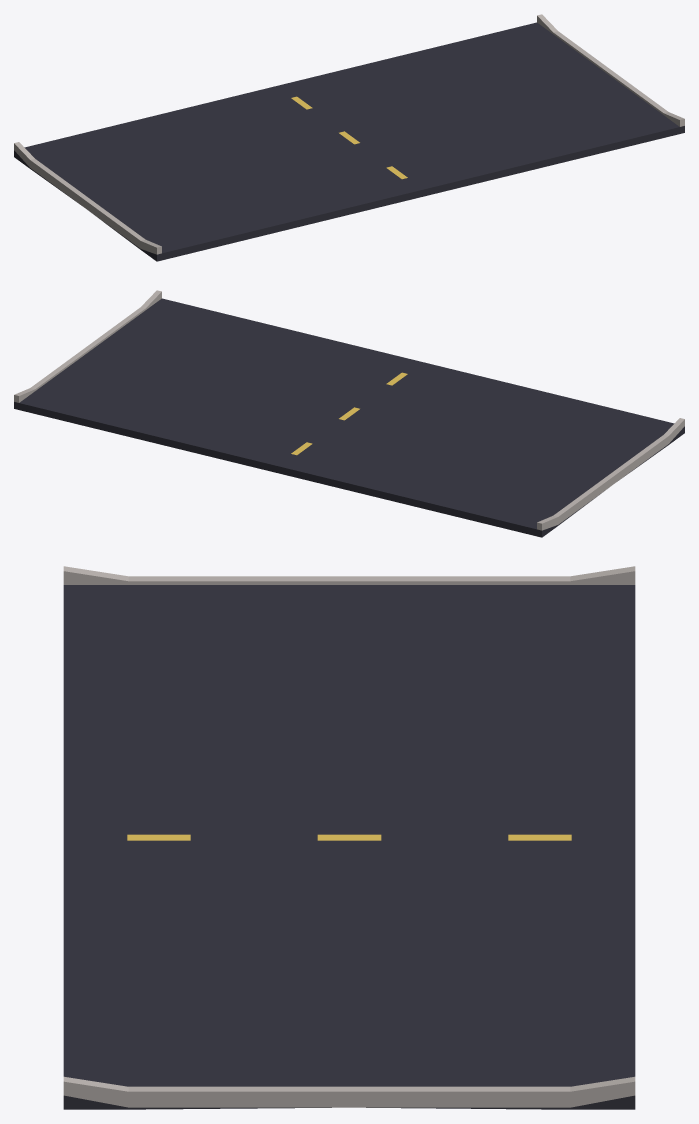
Rendered from driveway_road.fbx.
3 views of the same model, one above another, from view 1: azimuth 30°, elevation 25°; view 2: azimuth 150°, elevation 25°; view 3: azimuth 270°, elevation 25° (orthographic). The views are drawn at different scales.
Parts seen in each view (by area): view 1: road.003, road.005, road.004; view 2: road.003, road.005, road.004; view 3: road.003, road.004, road.005, road.006, road.007, road.008, road.009.
Boxes of the visible parts, x1,y1,x2,y2 form: road.003: [24, 22, 679, 260]; road.005: [30, 159, 145, 249]; road.004: [553, 31, 668, 114]; road.003: [19, 298, 674, 536]; road.005: [553, 435, 668, 525]; road.004: [30, 307, 145, 390]; road.003: [63, 585, 635, 1086]; road.004: [128, 1086, 570, 1109]; road.005: [128, 576, 570, 584]; road.006: [570, 1076, 635, 1109]; road.007: [63, 1076, 128, 1109]; road.008: [63, 566, 128, 584]; road.009: [570, 566, 635, 584].
Size of the model in its own units: 1562 by 39.74 by 732.
